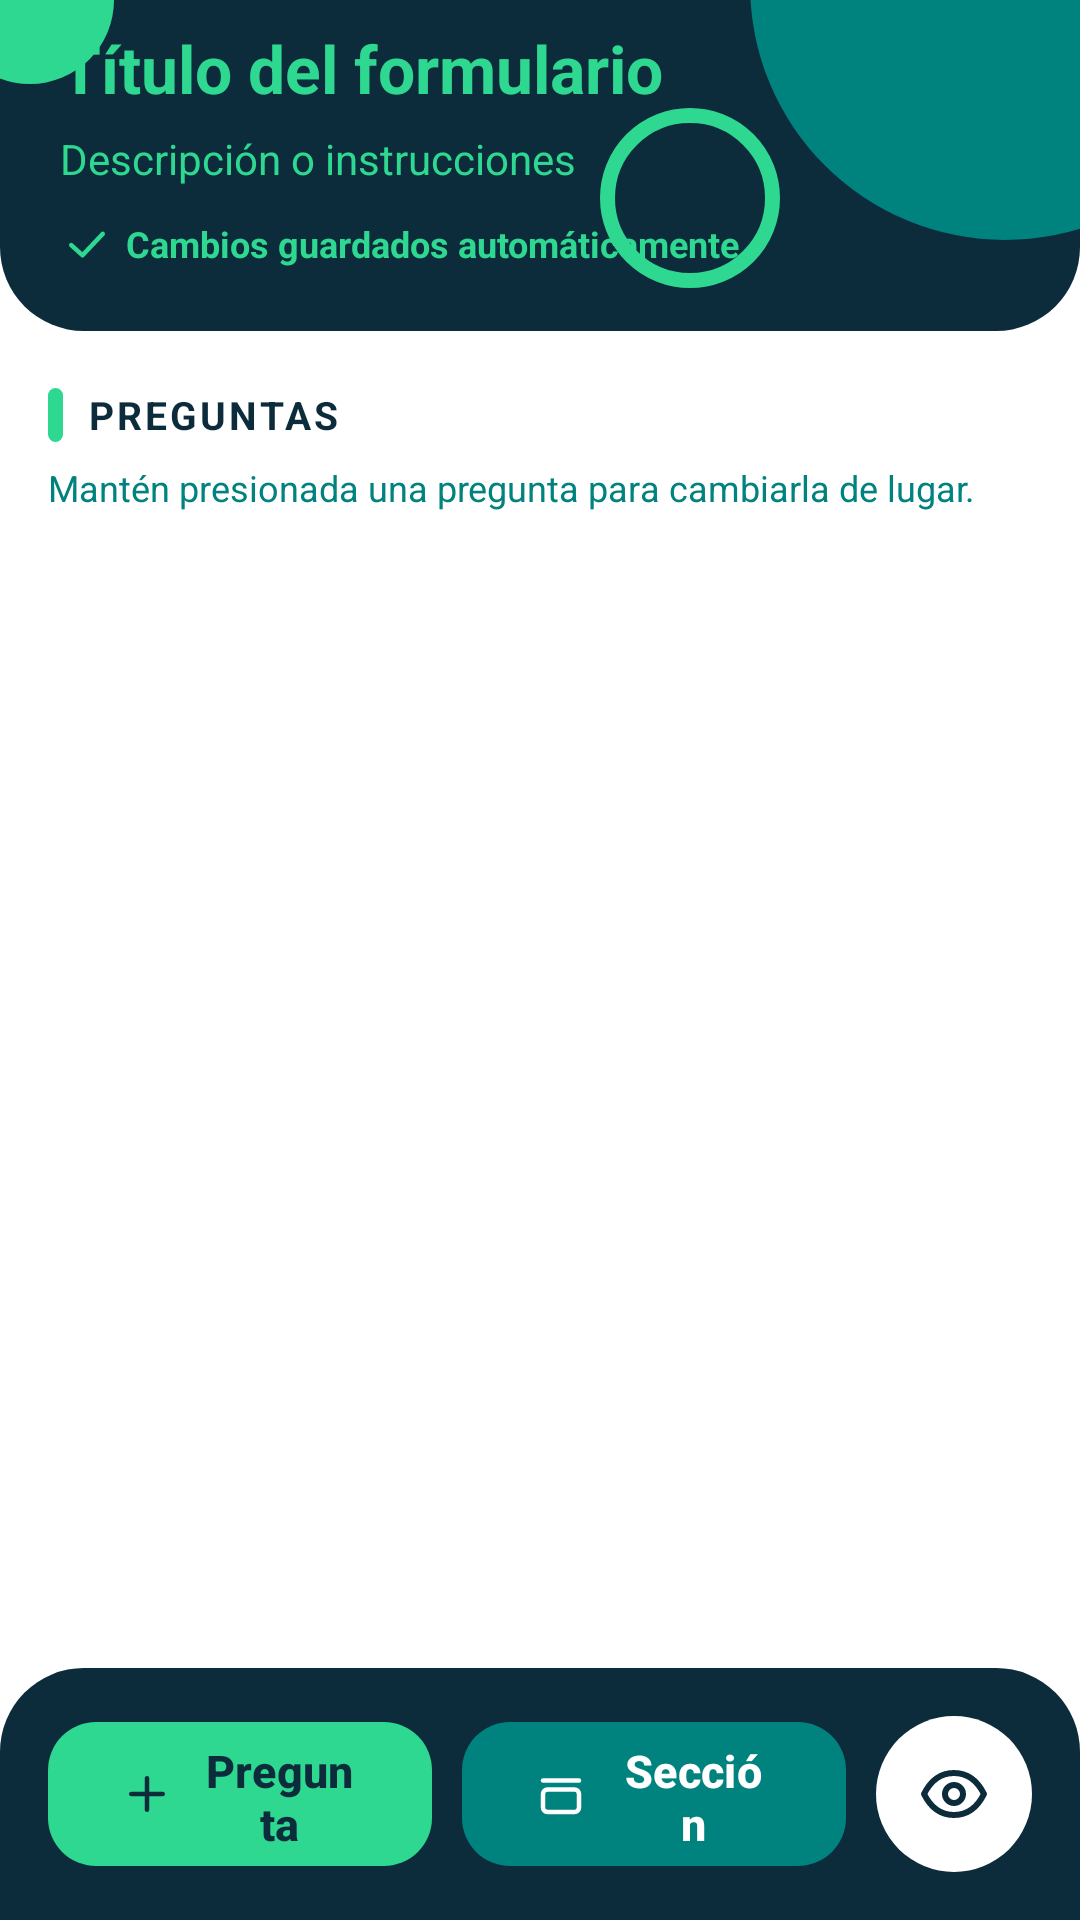

Named icons in this screenshot (1080 × 1920) and their bounding boxes, (x1, y1, x2, y2):
Vista previa: (876, 1716, 1032, 1872)
